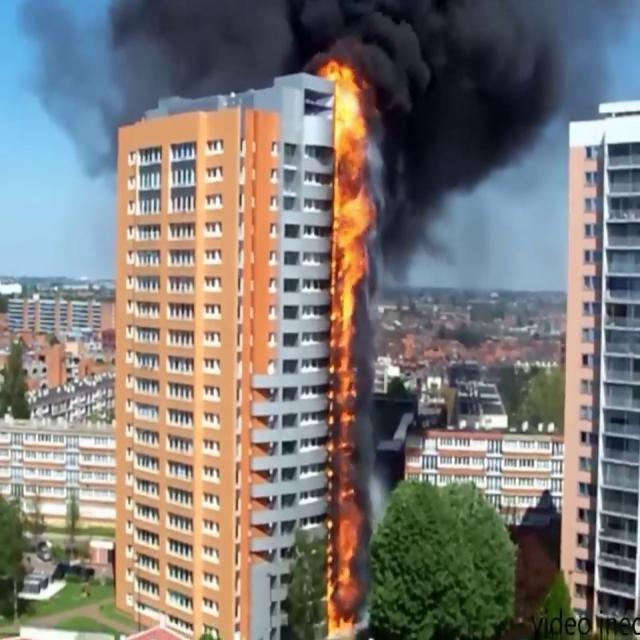Fire: (318, 54, 380, 631)
Smoke: (30, 0, 638, 125), (366, 0, 639, 258)
